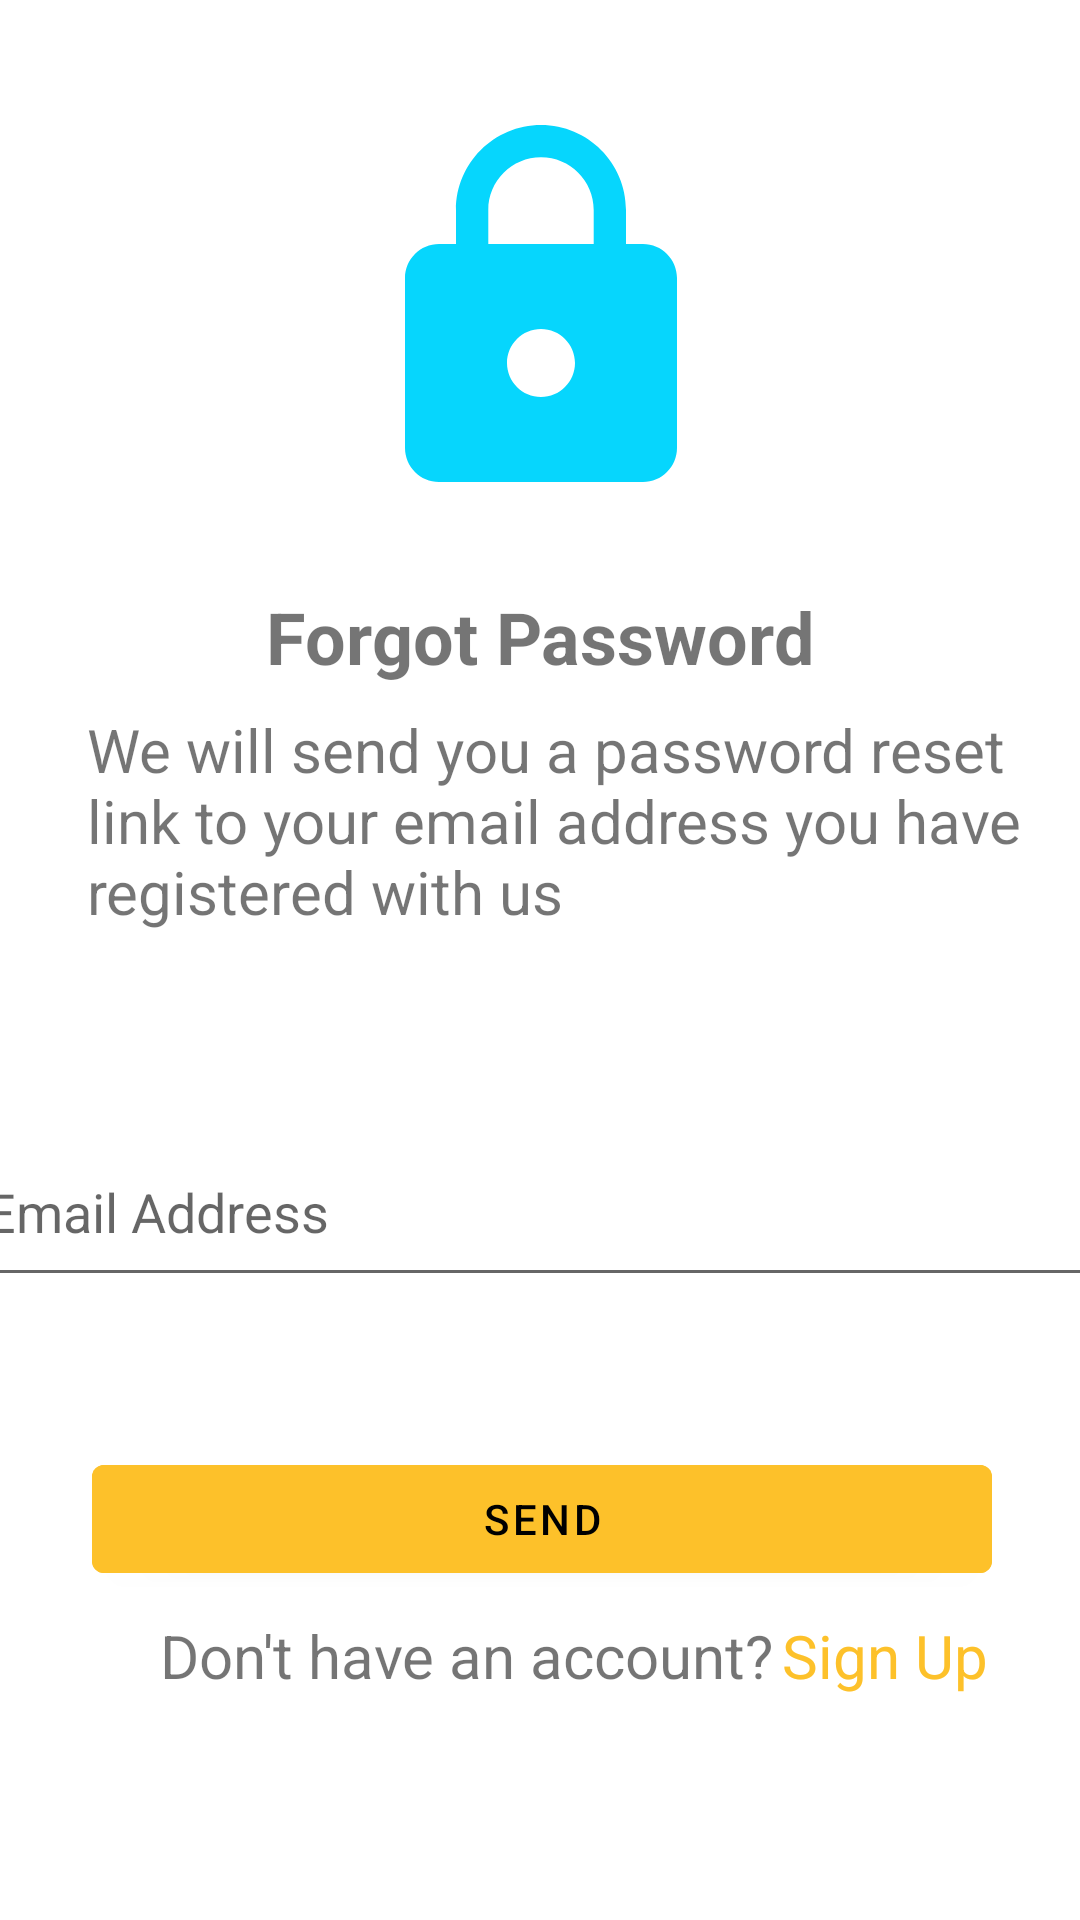

Named icons in this screenshot (1080x1920) and their bounding boxes, (x1, y1, x2, y2):
lock: (405, 125, 677, 482)
